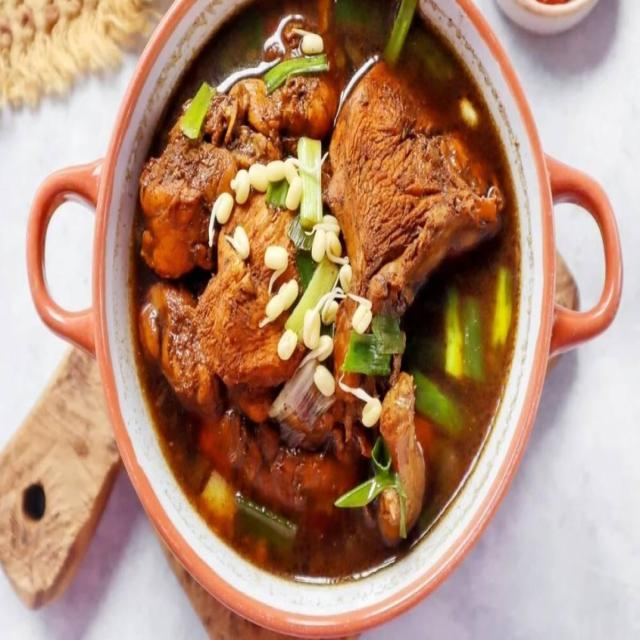Rawon: (115, 0, 523, 576)
